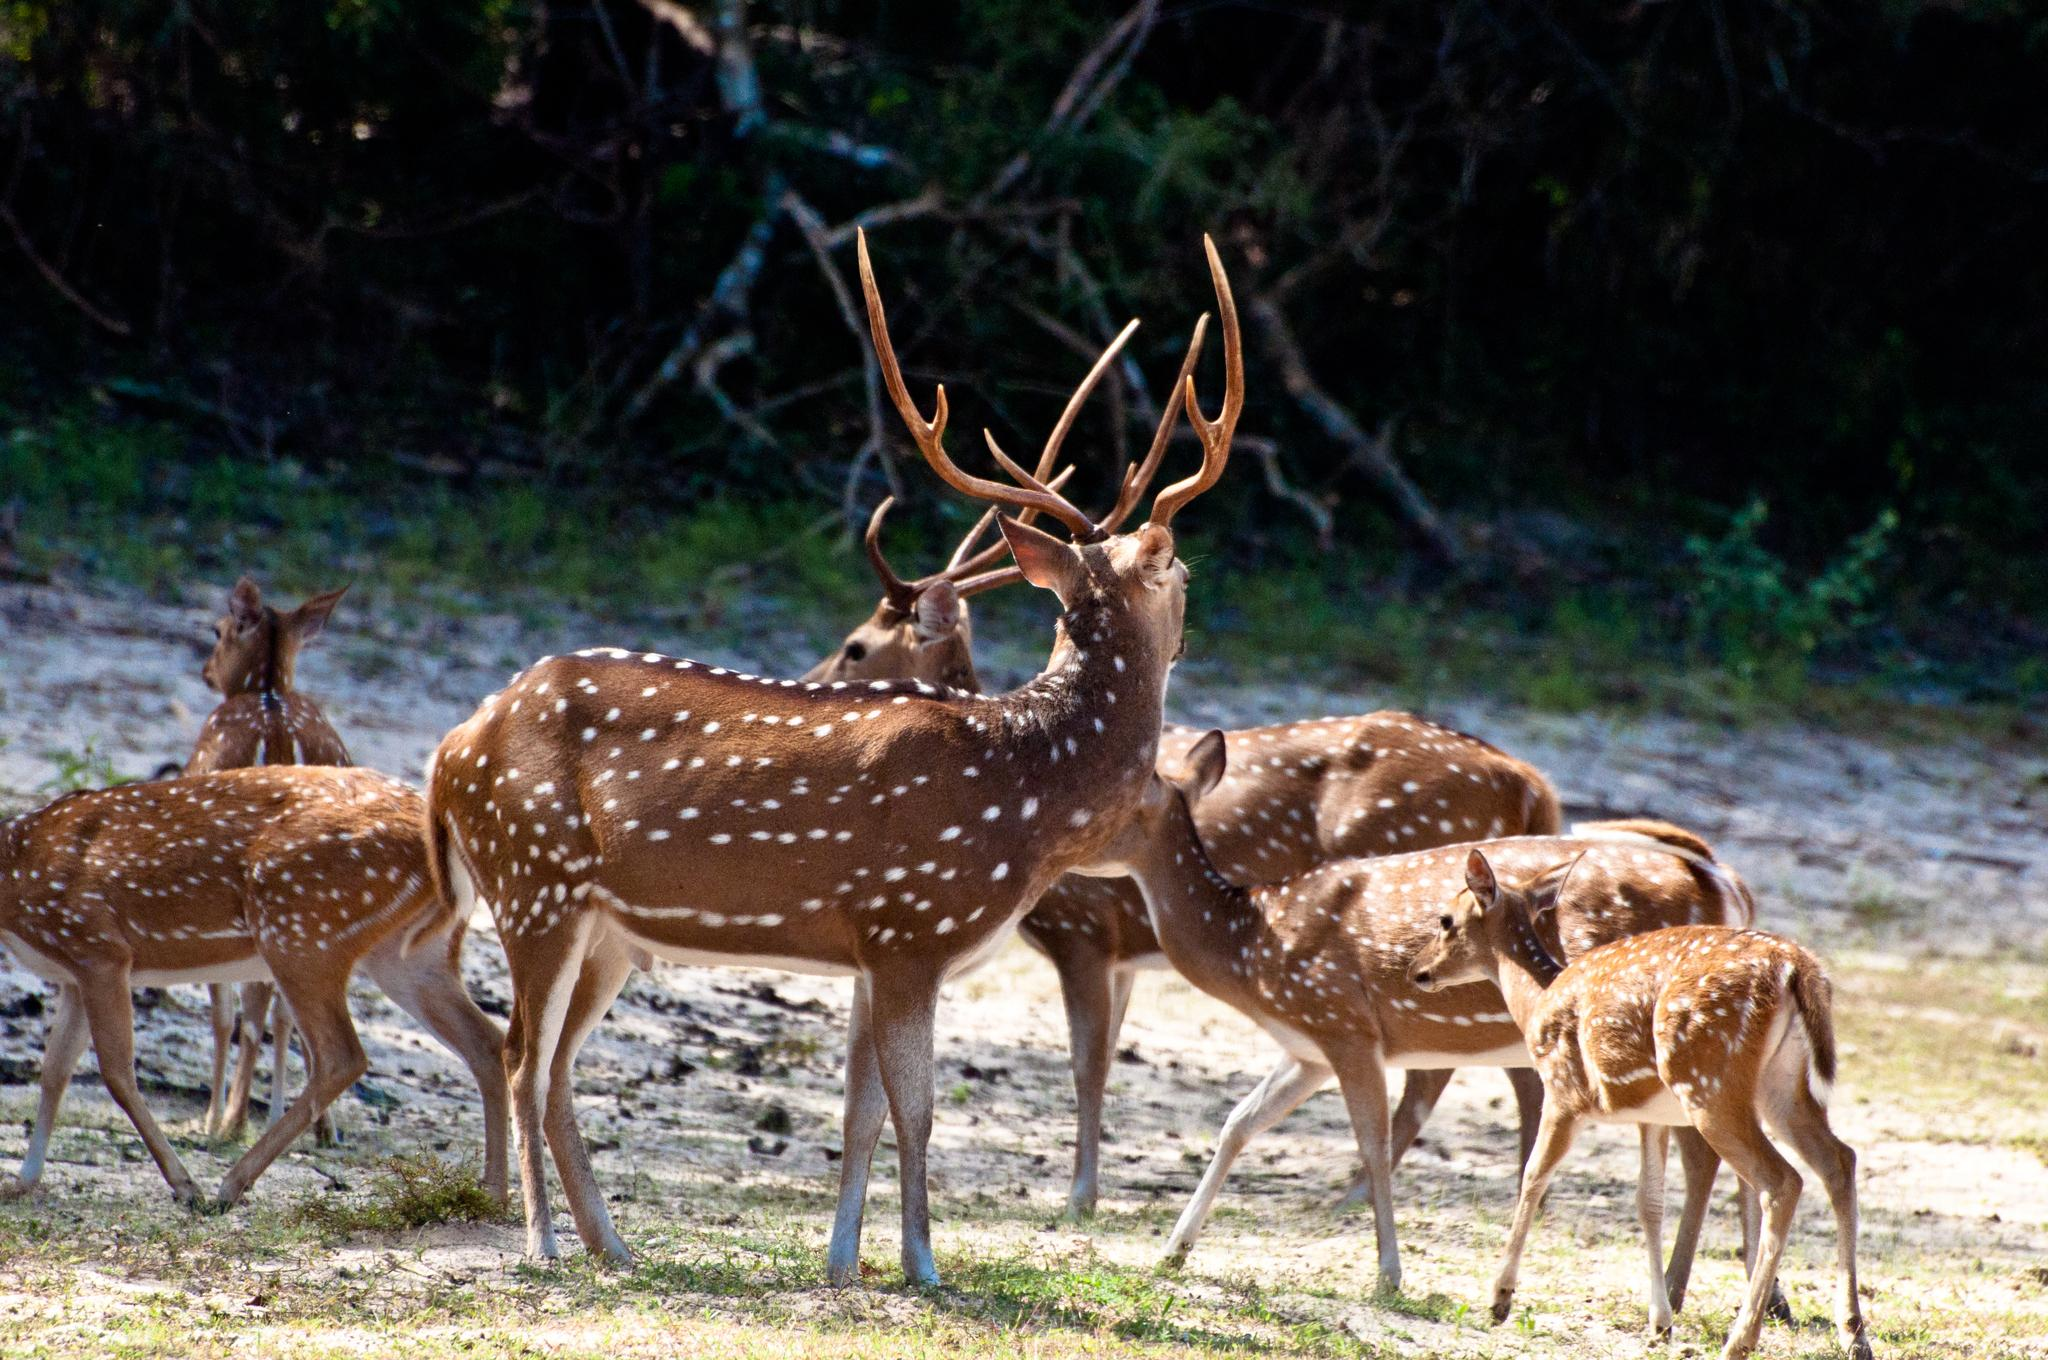Deer: (426, 225, 1242, 1281), (1073, 732, 1755, 1286), (1408, 850, 1871, 1358), (0, 765, 507, 1207), (185, 575, 352, 773)
